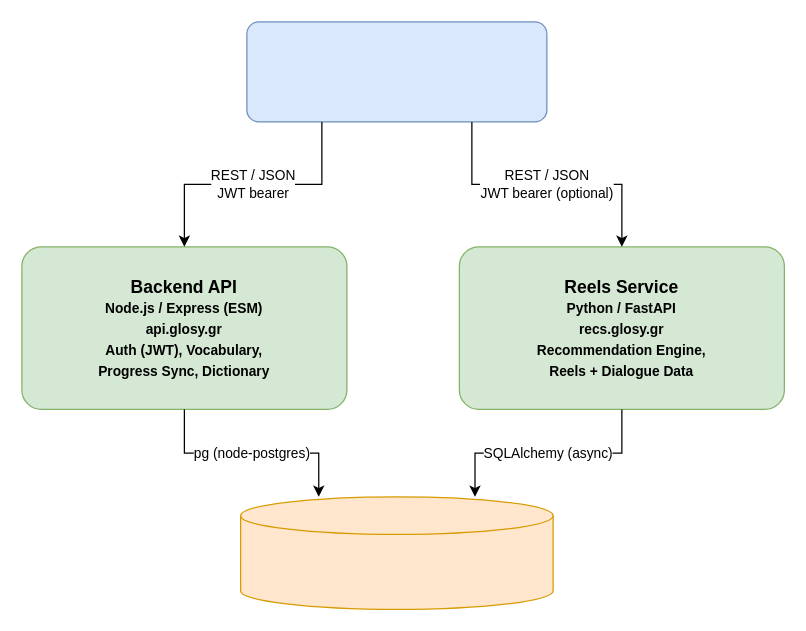
This 806x631 diagram has some shape labels left out. Here are the shapes that lost their labels. From the top down, the box of each, then its label:
(246, 21, 547, 122): Mobile Frontend React Native (Expo SDK 54) Android / iOS
(239, 496, 553, 609): PostgreSQL 16 thesis_db
